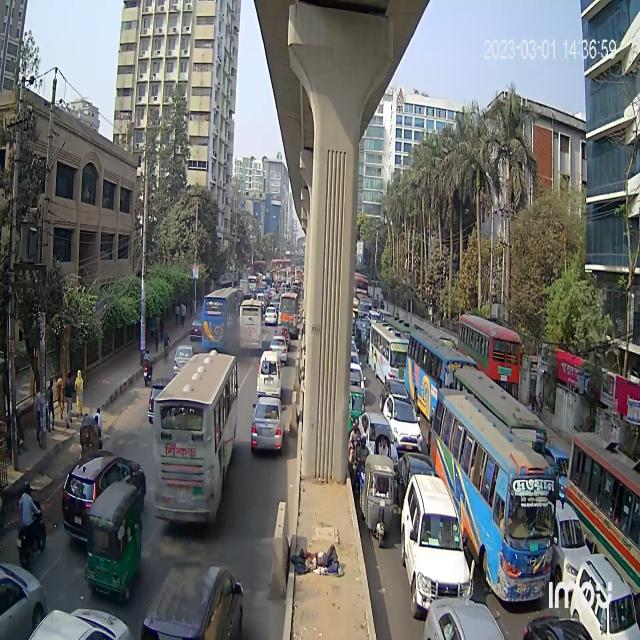cng: (82, 472, 141, 601), (360, 449, 396, 549), (348, 386, 363, 440)
